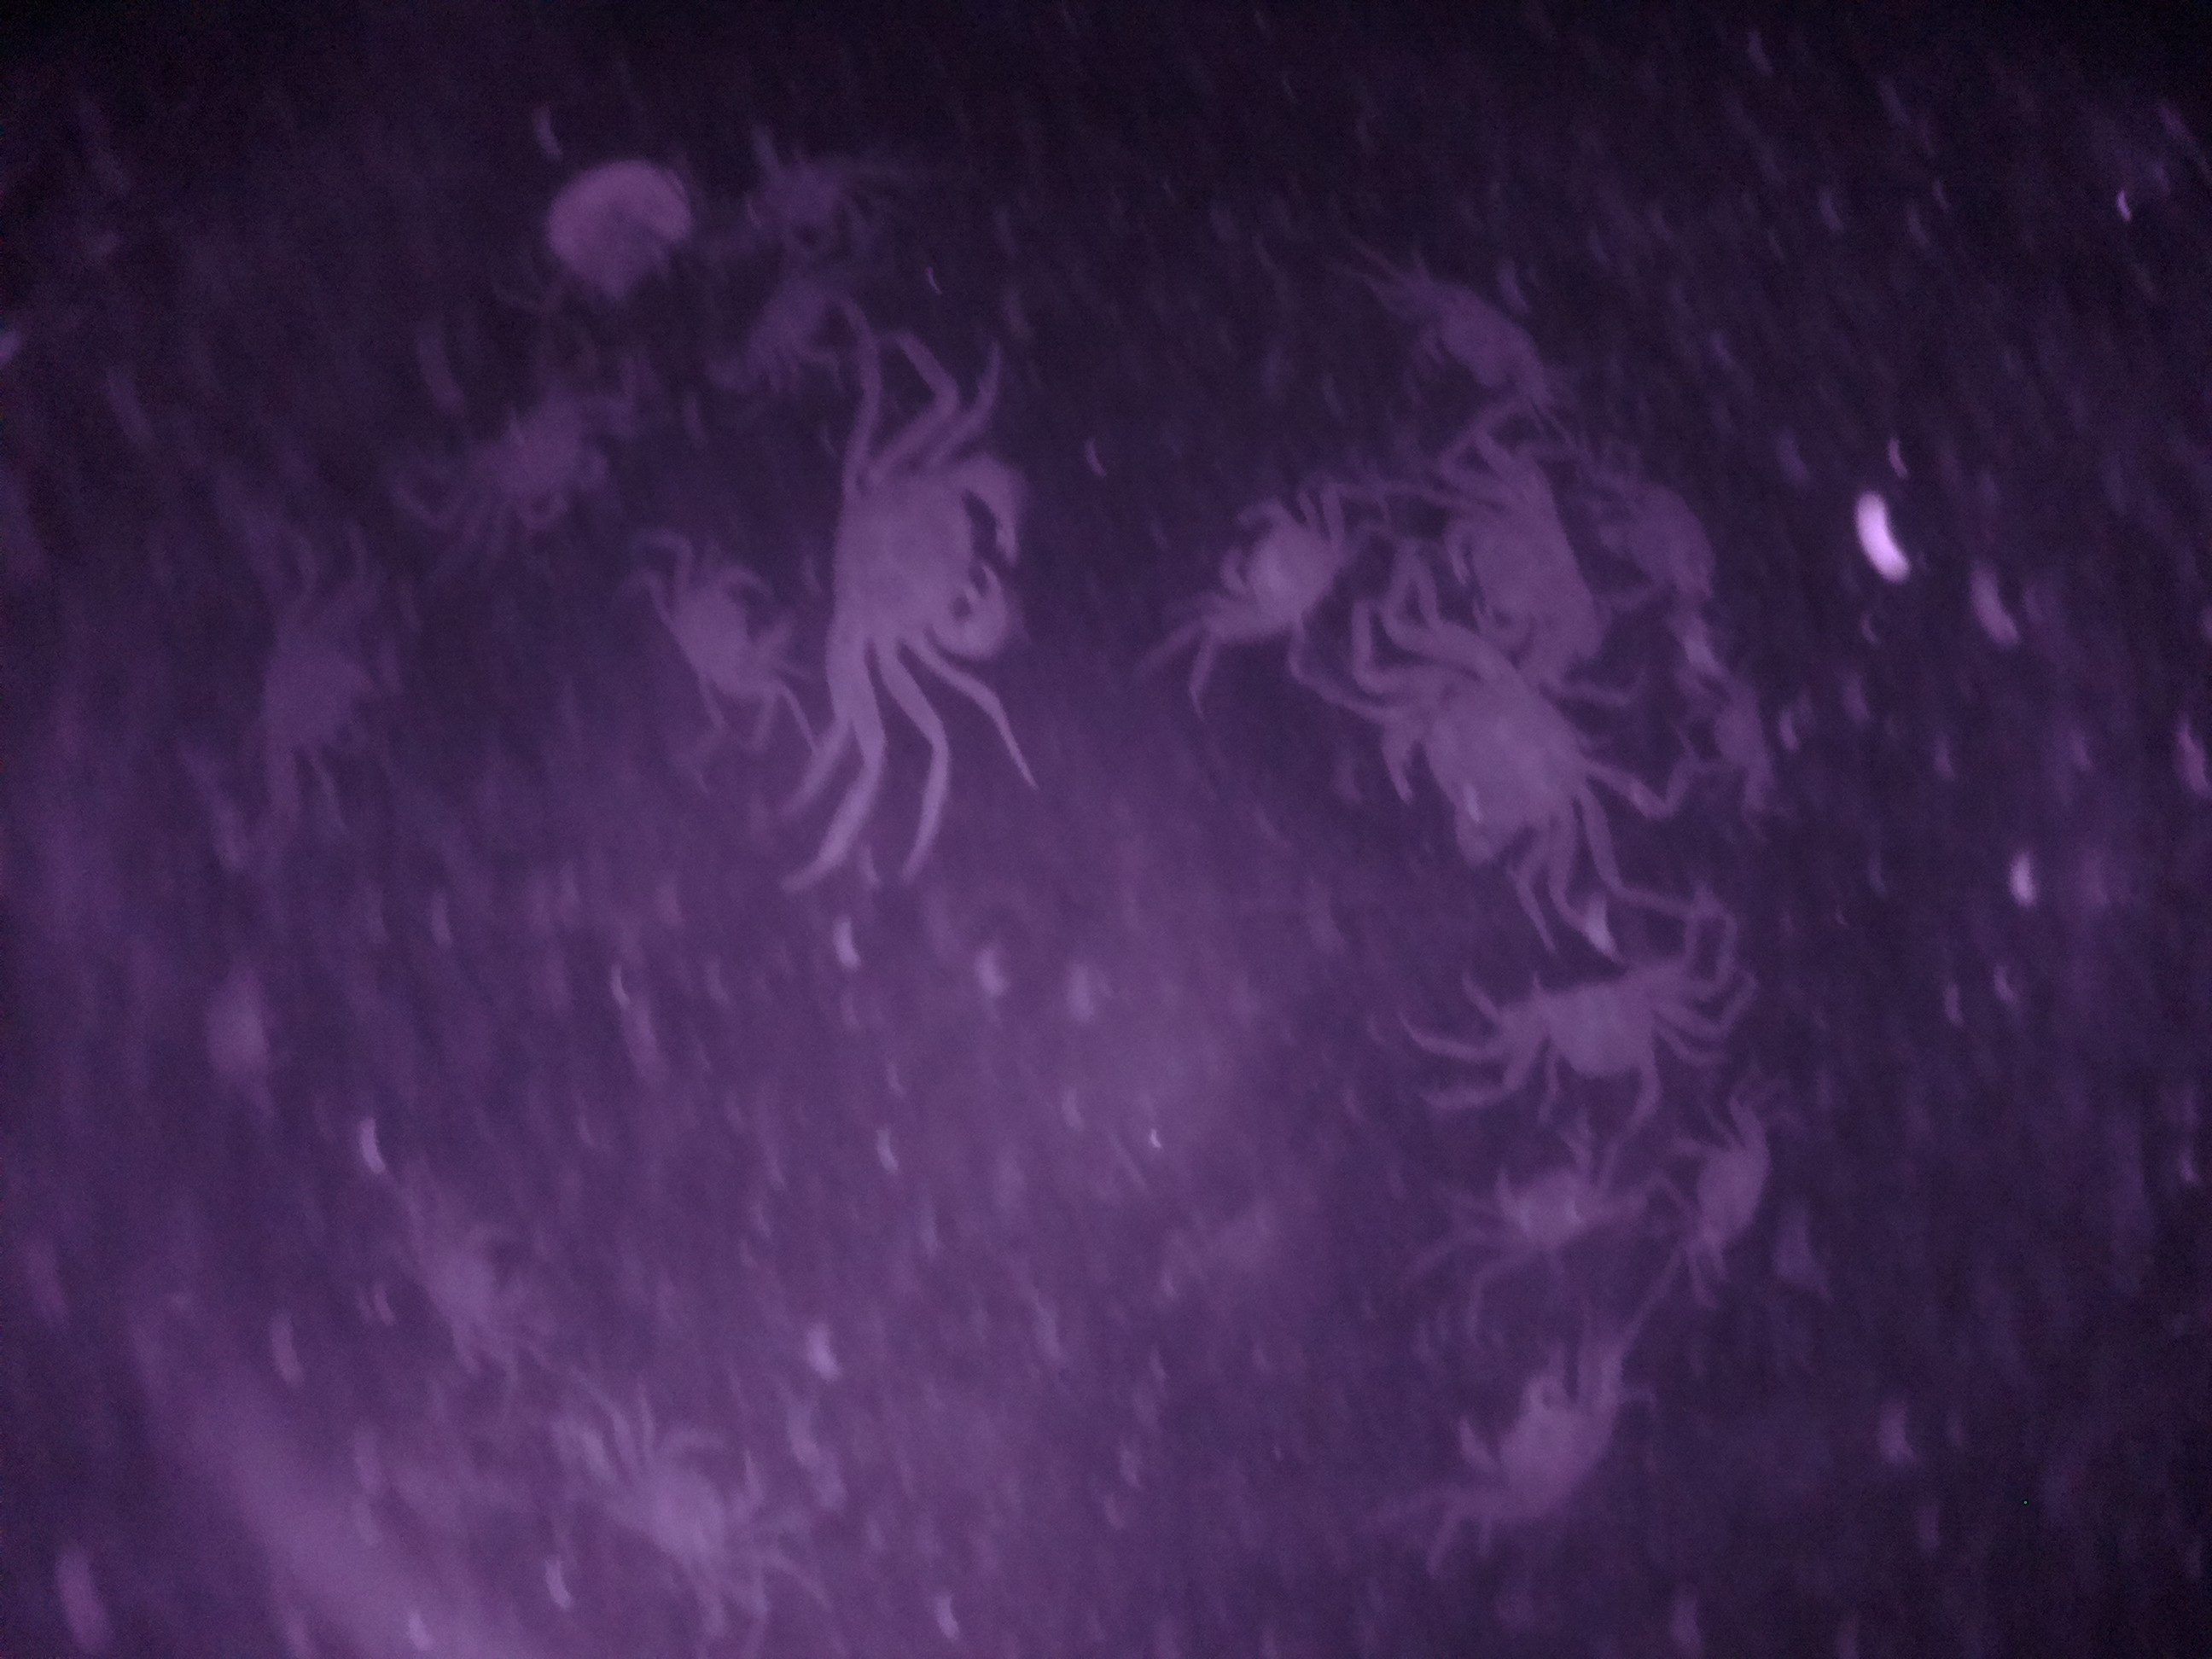Crab: (812, 416, 1040, 678), (1494, 953, 1702, 1115)
